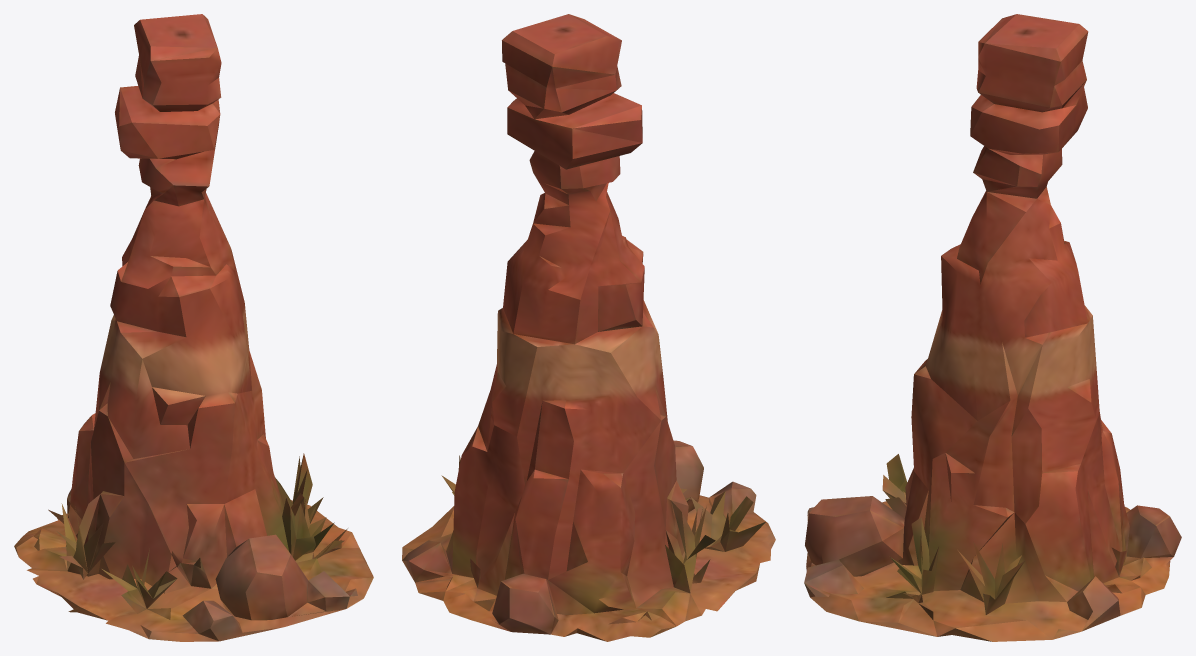
File: tree_04.glb
3 renders of one model, left to right at view 1: azimuth 30°, elevation 25°; view 2: azimuth 150°, elevation 25°; view 3: azimuth 270°, elevation 25°, orthographic. The views are drawn at different scales.
Visible parts, largest first — view 1: tree_04; view 2: tree_04; view 3: tree_04.
Boxes of the visible parts, box(x1,y1,x2,y2) form: tree_04: box(14, 14, 373, 641); tree_04: box(402, 14, 775, 641); tree_04: box(804, 14, 1181, 641).
Size of the model in its own units: 16.04 by 27 by 17.14.
1 material, 1 textured.
